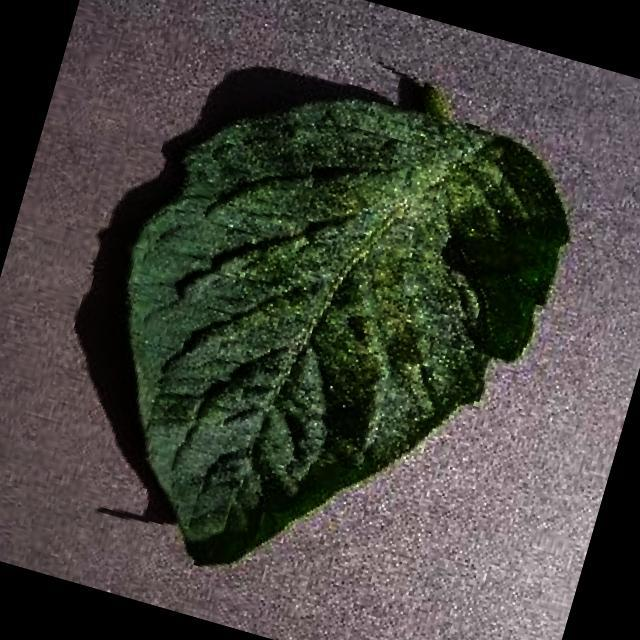Tomato spider mites leaf: (49, 44, 591, 640)
